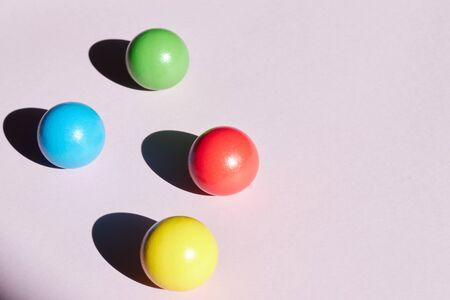Red_Ball: (186, 118, 261, 201)
